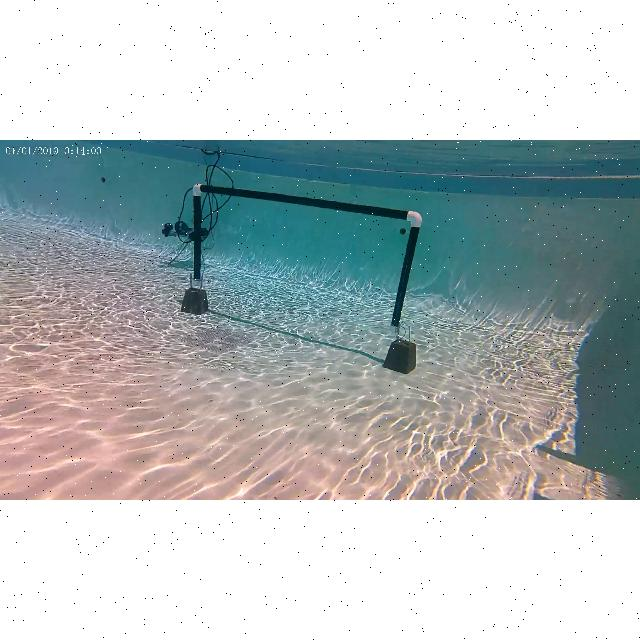prequal gate: (192, 182, 422, 330)
prequal gate leg l: (186, 184, 210, 316)
prequal gate leg r: (384, 206, 418, 370)
